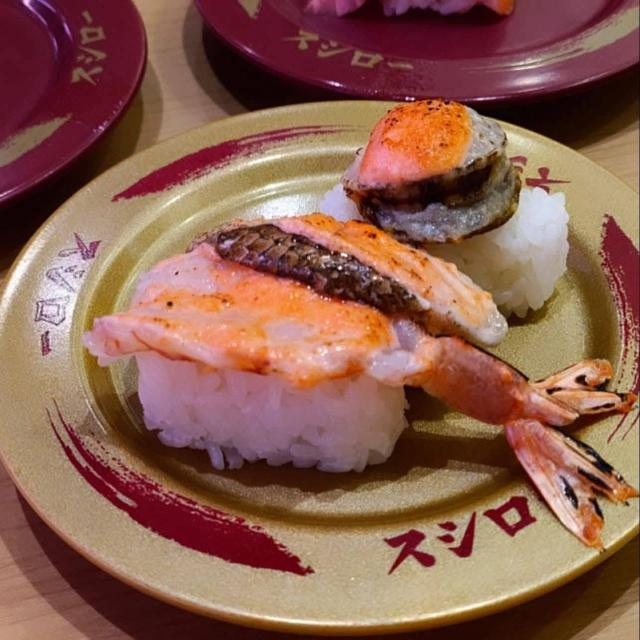jangold: (41, 438, 540, 627), (0, 221, 105, 568), (65, 102, 339, 213), (589, 159, 640, 407)
